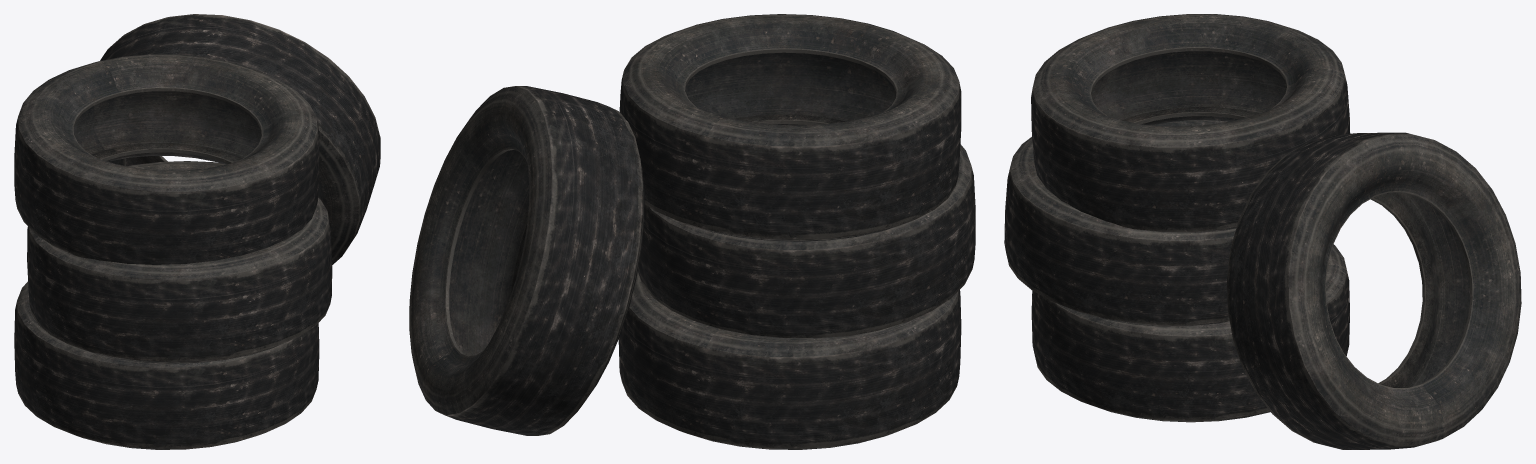
File: game_ready__car_tires.glb
3 renders of one model, left to right at view 1: azimuth 30°, elevation 25°; view 2: azimuth 150°, elevation 25°; view 3: azimuth 270°, elevation 25°, orthographic. The views are drawn at different scales.
Visible parts, largest first — view 1: Car_Tire_03_Car_Tire_0, Car_Tire_02_Car_Tire_0, Car_Tire_01_Car_Tire_0, Car_Tire_04_Car_Tire_0; view 2: Car_Tire_03_Car_Tire_0, Car_Tire_04_Car_Tire_0, Car_Tire_01_Car_Tire_0, Car_Tire_02_Car_Tire_0; view 3: Car_Tire_04_Car_Tire_0, Car_Tire_03_Car_Tire_0, Car_Tire_02_Car_Tire_0, Car_Tire_01_Car_Tire_0.
Boxes of the visible parts, x1,y1,x2,y2 form: Car_Tire_03_Car_Tire_0: (14, 54, 319, 264); Car_Tire_02_Car_Tire_0: (27, 161, 332, 363); Car_Tire_01_Car_Tire_0: (14, 281, 319, 449); Car_Tire_04_Car_Tire_0: (100, 14, 380, 264); Car_Tire_03_Car_Tire_0: (619, 14, 961, 241); Car_Tire_04_Car_Tire_0: (409, 86, 644, 435); Car_Tire_01_Car_Tire_0: (618, 272, 961, 449); Car_Tire_02_Car_Tire_0: (637, 144, 975, 338); Car_Tire_04_Car_Tire_0: (1227, 132, 1521, 449); Car_Tire_03_Car_Tire_0: (1031, 14, 1350, 232); Car_Tire_02_Car_Tire_0: (1004, 120, 1236, 326); Car_Tire_01_Car_Tire_0: (1031, 244, 1349, 422).
Size of the model in its own units: 1.04 by 0.7036 by 1.12.
1 material, 1 textured.
